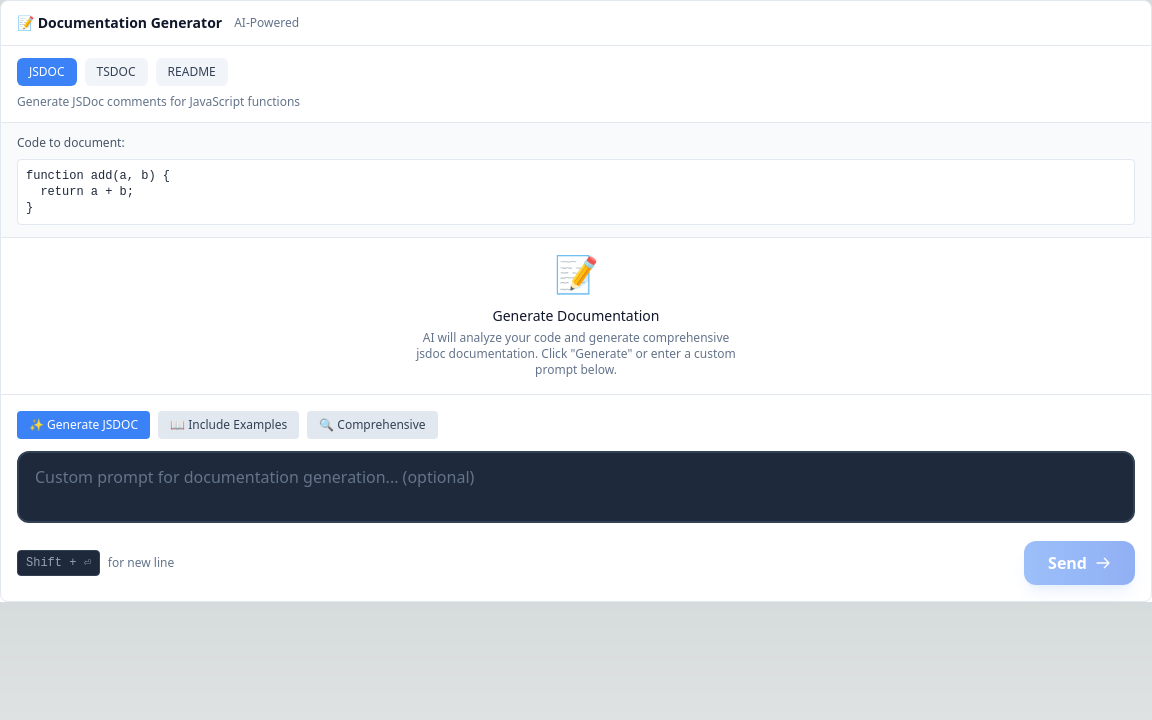
Test case: DocumentationGenerator › Doc Type Selection › should show correct description for each doc type
The image size is (1152, 720).
Expected: the text "Generate JSDoc comments for JavaScript functions" is shown, [17, 93, 300, 110]
# Switch to TSDoc
Click the button "TSDOC". click: coordinates (116, 72)
box: [85, 58, 148, 86]
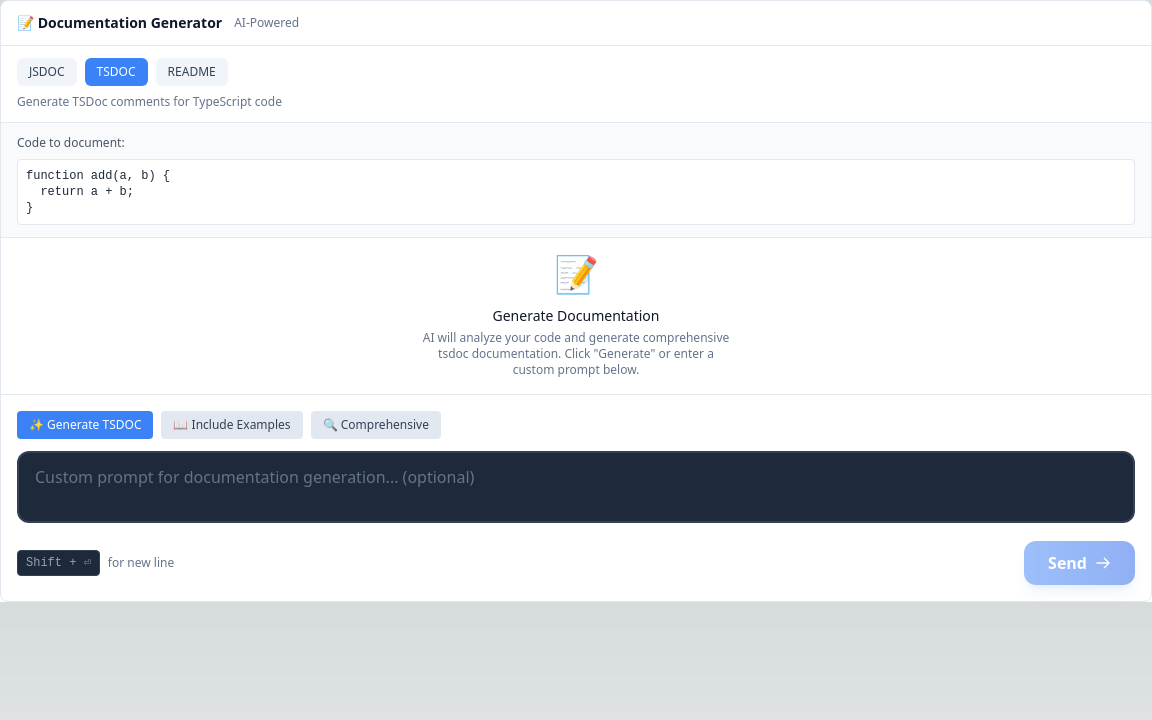
Expected: the text "Generate TSDoc comments for TypeScript code" is shown, [17, 93, 282, 110]
# Switch to README
Click the button "README". click: coordinates (192, 72)
box: [156, 58, 228, 86]
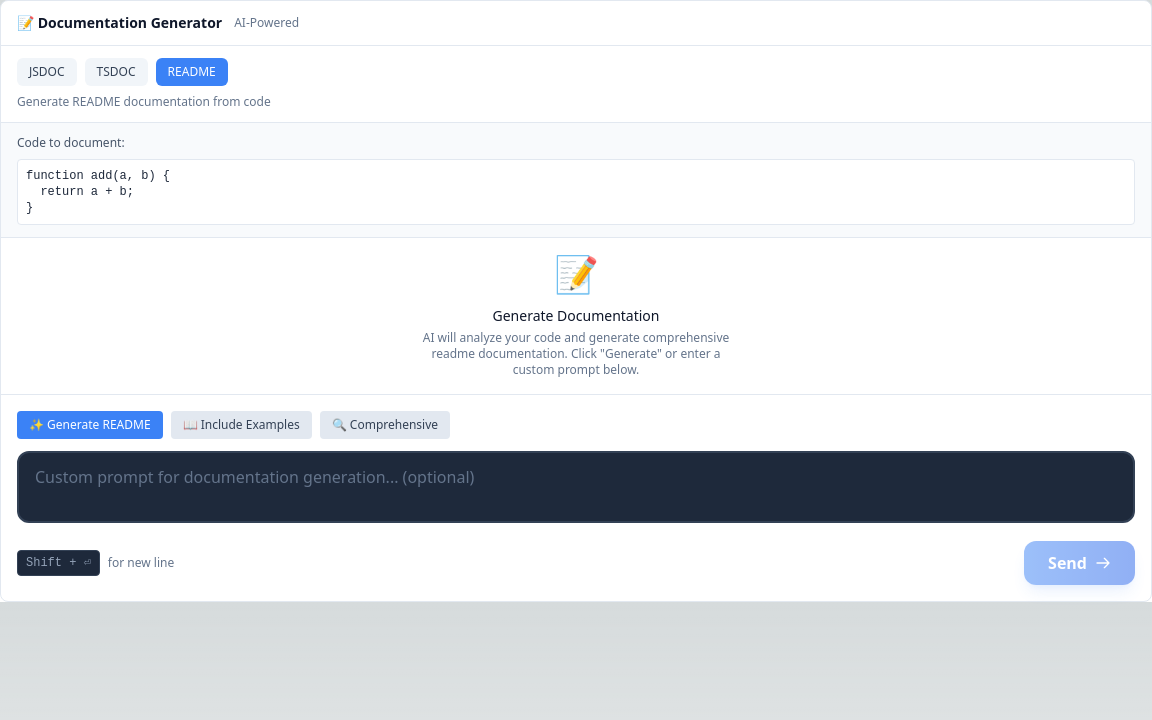
Expected: the text "Generate README documentation from code" is shown, [17, 93, 271, 110]
